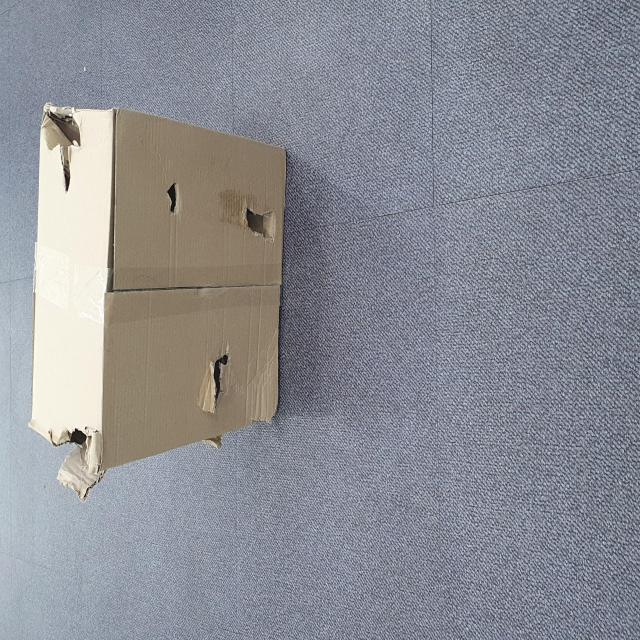damaged: (250, 75, 300, 153), (83, 90, 126, 176), (129, 348, 166, 411), (222, 433, 246, 497), (234, 288, 260, 327)
